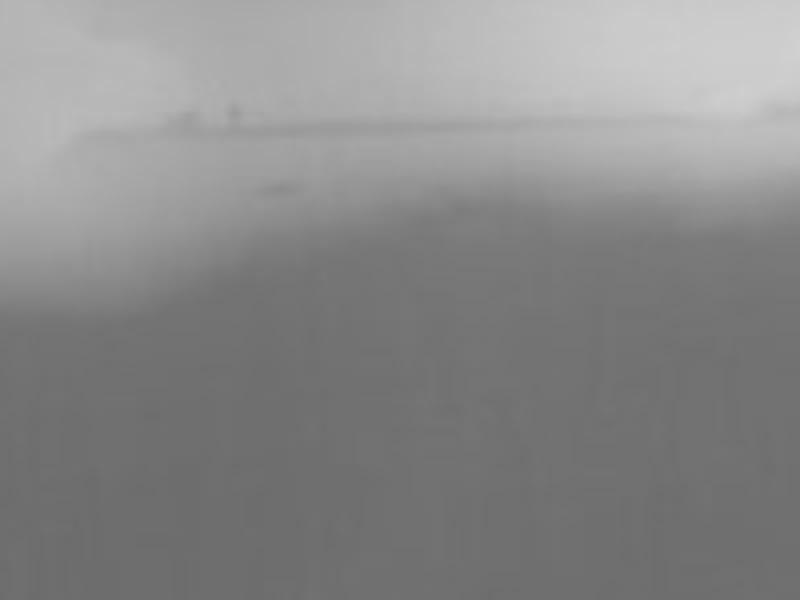defect: (170, 107, 199, 135), (227, 102, 243, 121)
